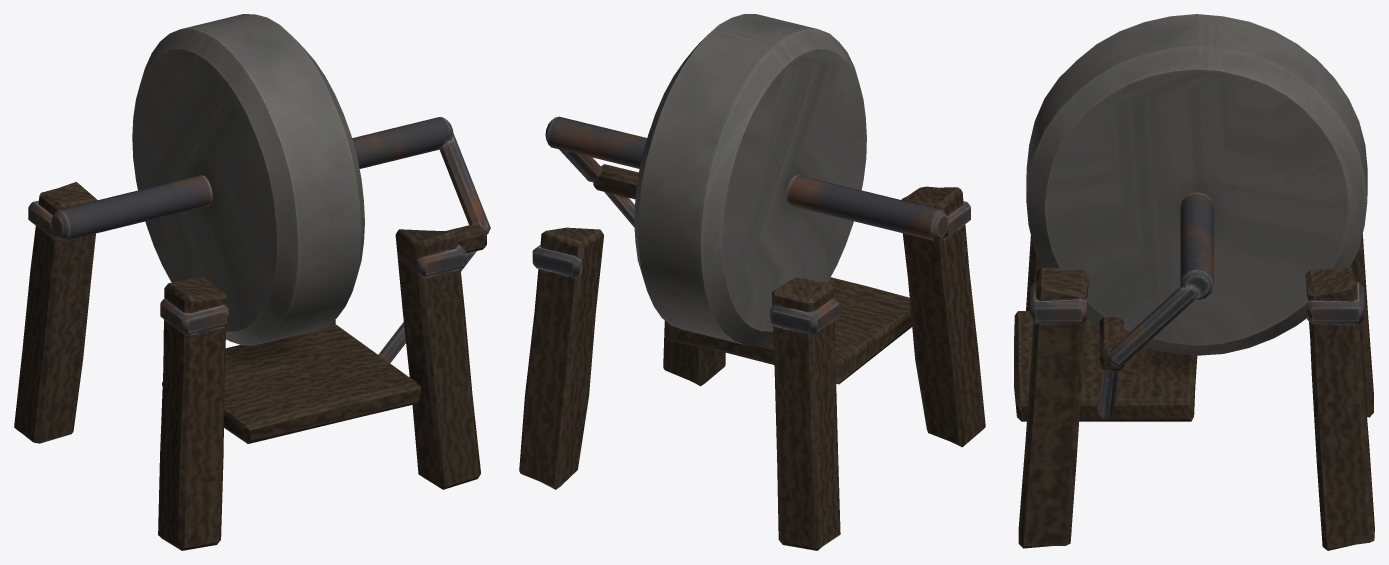
The model's file is grindstone.glb.
3 views of the same model, side by side, from view 1: azimuth 30°, elevation 25°; view 2: azimuth 150°, elevation 25°; view 3: azimuth 270°, elevation 25° (orthographic). The views are drawn at different scales.
Parts seen in each view (by area): view 1: grindstone; view 2: grindstone; view 3: grindstone.
Boxes of the visible parts, x1,y1,x2,y2 form: grindstone: [14, 14, 490, 550]; grindstone: [519, 14, 985, 550]; grindstone: [1014, 14, 1374, 550].
Size of the model in its own units: 0.785 by 0.8131 by 0.5931.
Materials: 1 (1 with a texture image).
